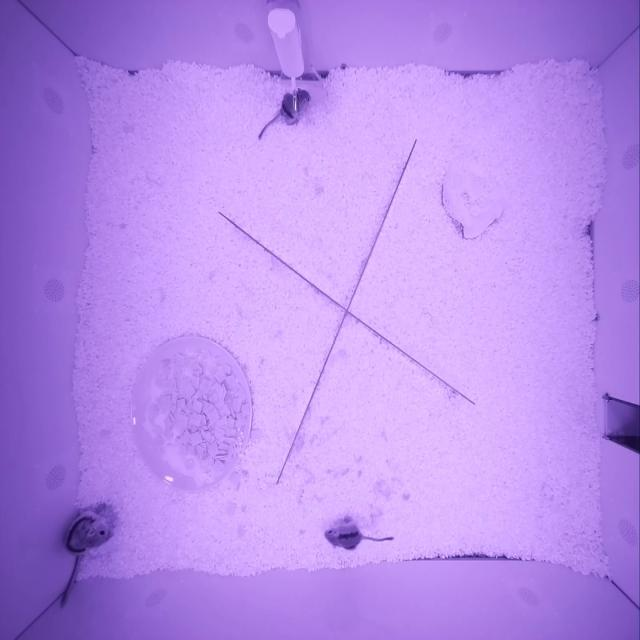adult_back: (64, 511, 109, 556)
pup_h_stripe: (280, 88, 311, 125)
pup_v_stripe: (324, 524, 361, 549)
